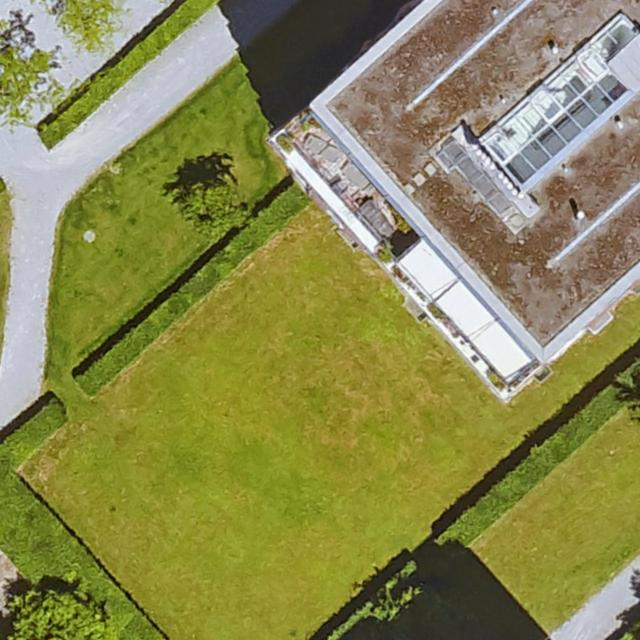tree: (7, 591, 106, 640), (179, 181, 242, 231)
